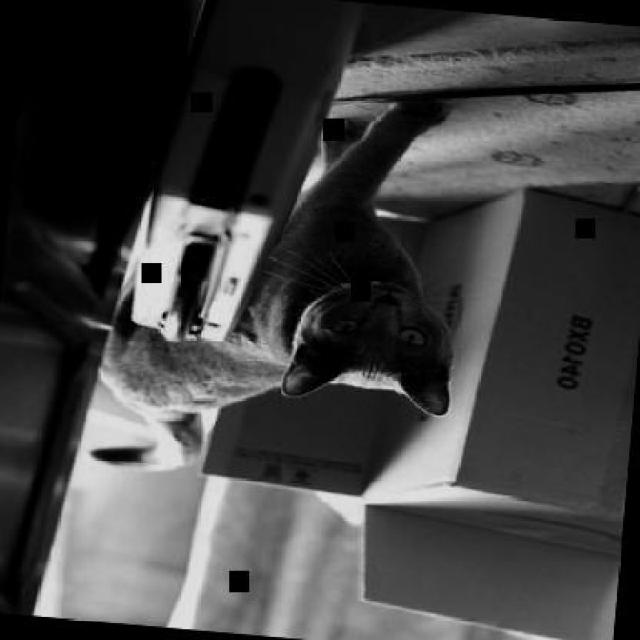cat: (88, 72, 477, 498)
